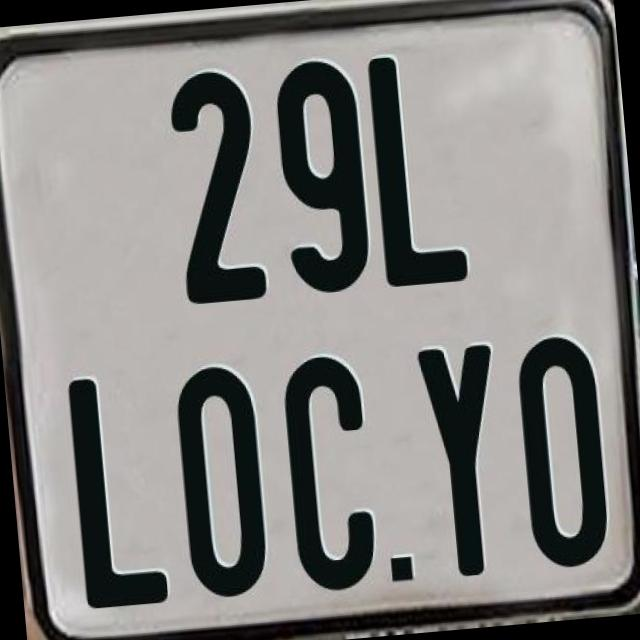0: (170, 361, 274, 604), (514, 331, 618, 569)
2: (163, 68, 266, 309)
9: (268, 52, 372, 292)
C: (276, 351, 378, 594)
L: (366, 46, 473, 287), (67, 374, 171, 616)
Y: (416, 338, 518, 583)
